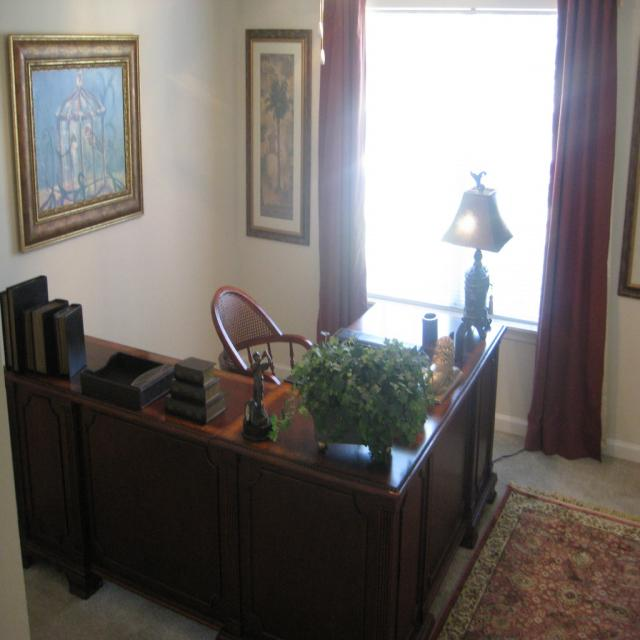chair: (211, 286, 315, 382)
desk: (13, 313, 508, 635)
